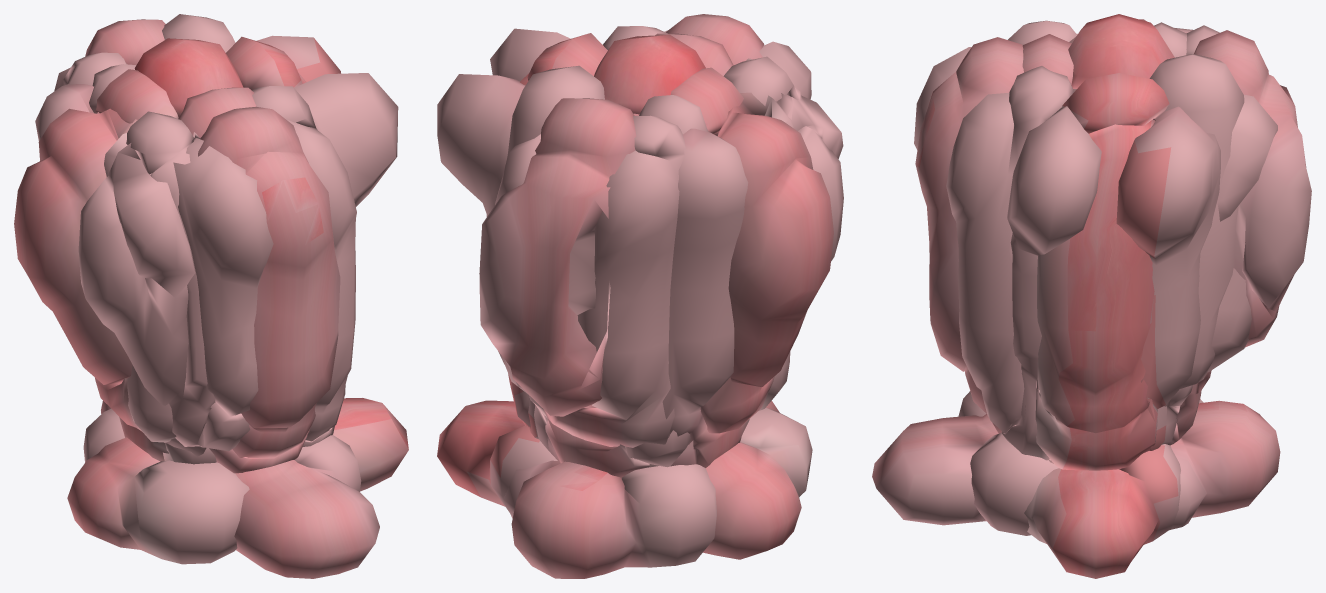
The model's file is smoke_red.obj.
The picture shows the model from 3 angles, left to right: view 1: azimuth 30°, elevation 25°; view 2: azimuth 150°, elevation 25°; view 3: azimuth 270°, elevation 25°; orthographic projection. The views are drawn at different scales.
Parts seen in each view (by area): view 1: Plane_Plane.002; view 2: Plane_Plane.002; view 3: Plane_Plane.002.
Part boxes in pixels (x1,y1,x2,y2): Plane_Plane.002: (14, 14, 408, 578); Plane_Plane.002: (437, 14, 843, 578); Plane_Plane.002: (872, 14, 1311, 578).
Bounding box in the file's own units: 12.69 × 15.49 × 12.92.
